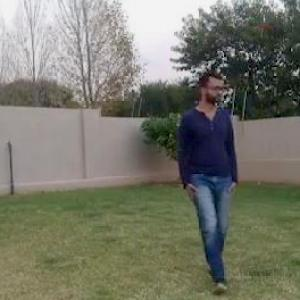follow: (185, 67, 239, 277)
